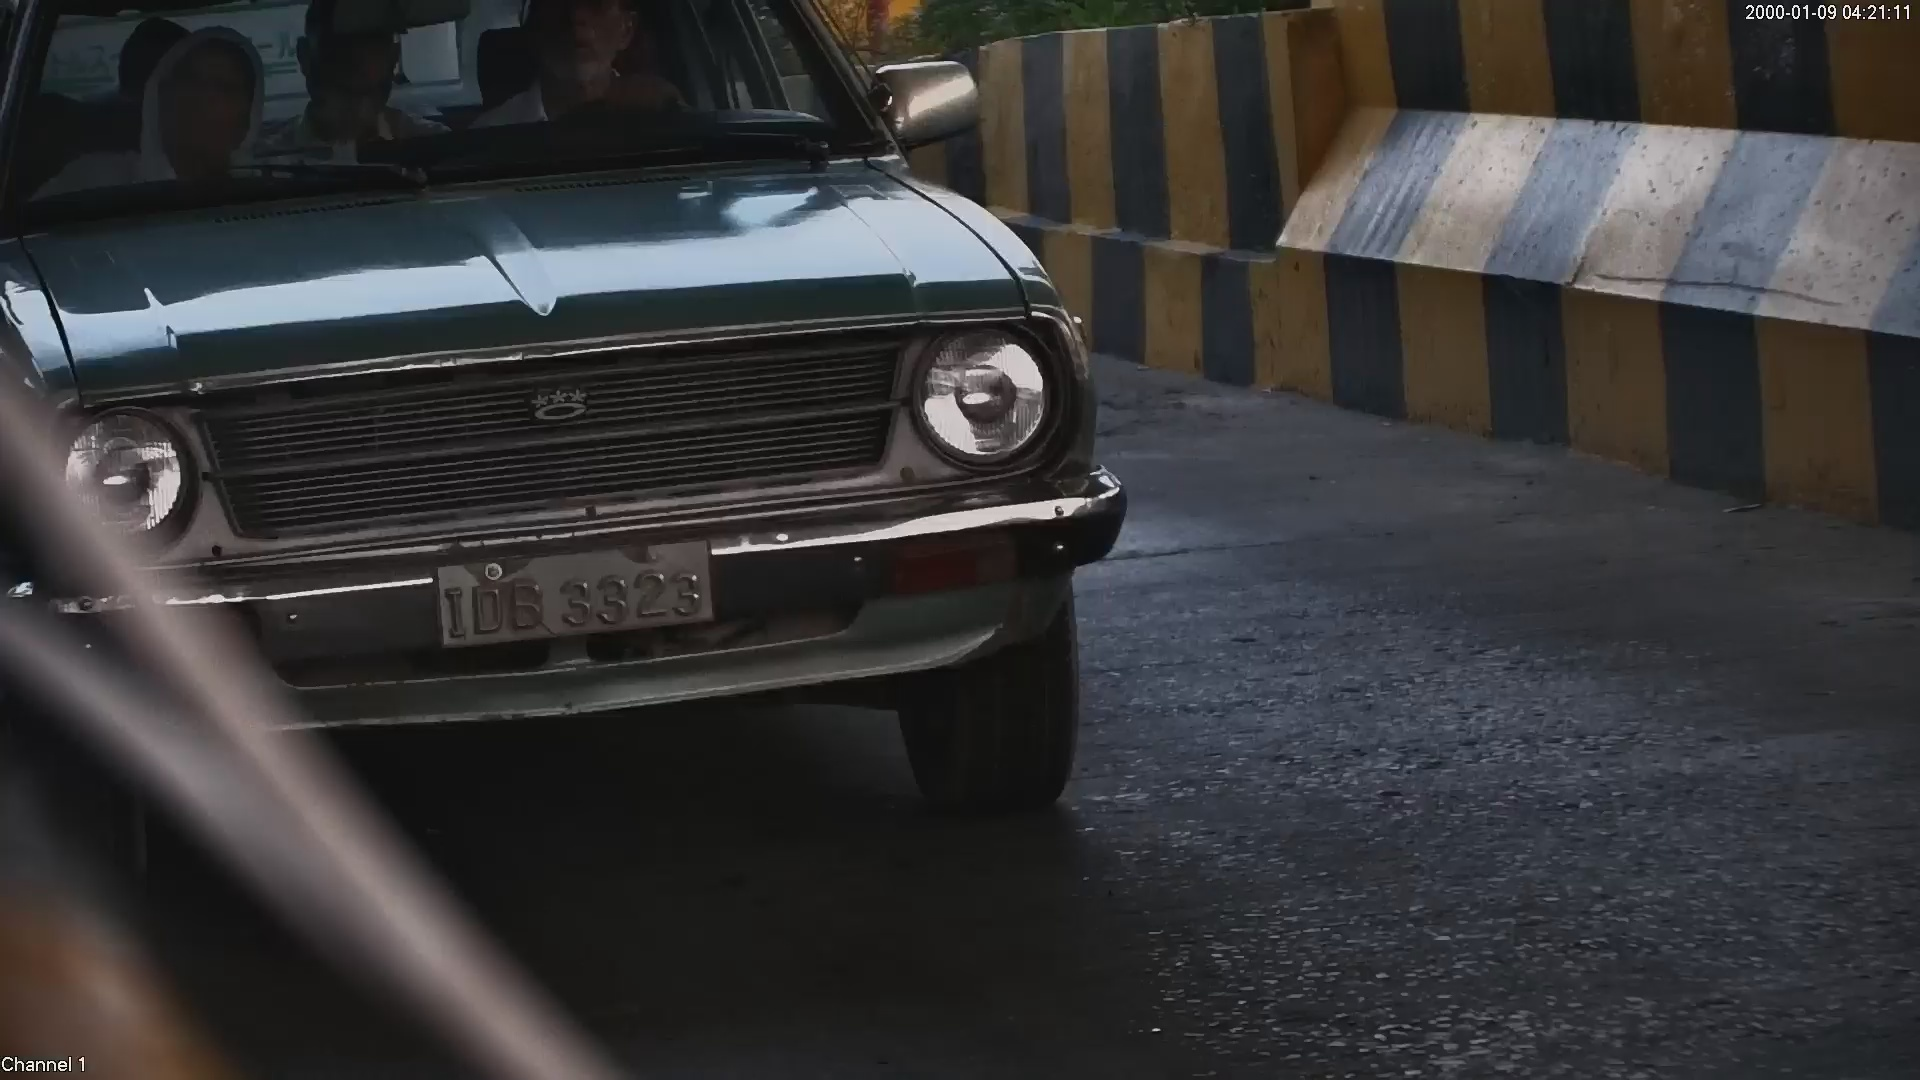Number_Plate: (404, 538, 743, 649)
Undefined: (904, 327, 1067, 477), (67, 414, 230, 551), (521, 357, 608, 427)
